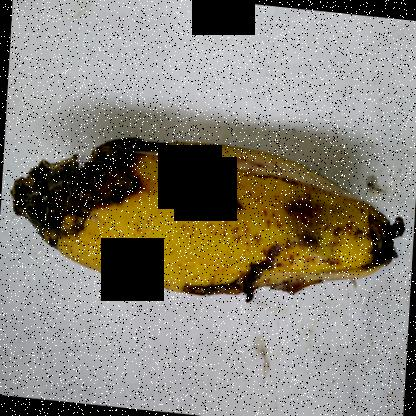rotten: (0, 124, 168, 281), (175, 239, 315, 332), (272, 163, 348, 263), (341, 206, 410, 310)
